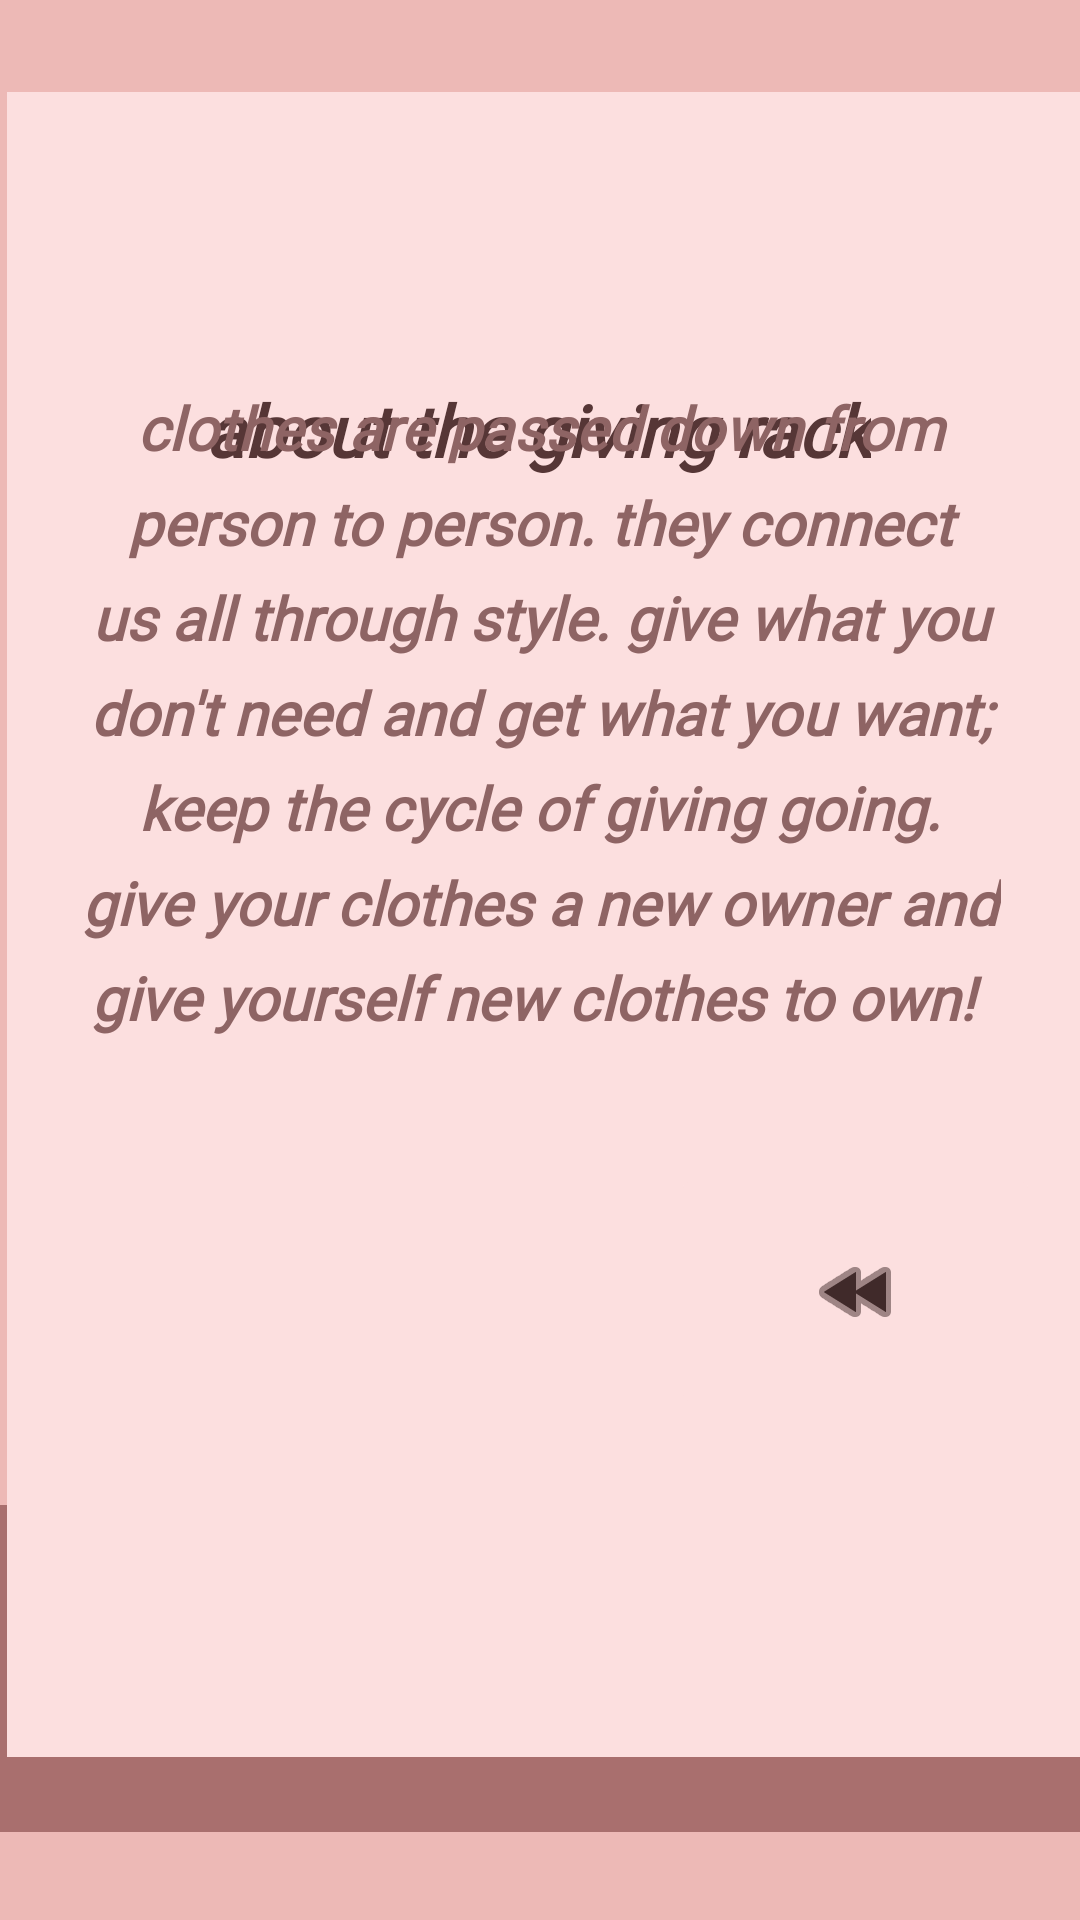

Icons on this 1080×1920 Android screen, each with its box as (x1,y1,x2,y2):
rew: (819,1267,891,1317)
